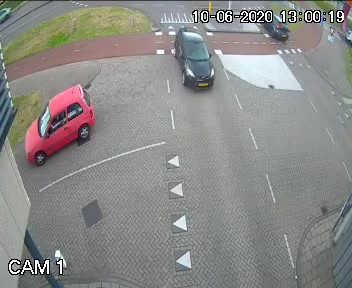car: (26, 83, 100, 162), (167, 23, 216, 92), (258, 10, 290, 47)
